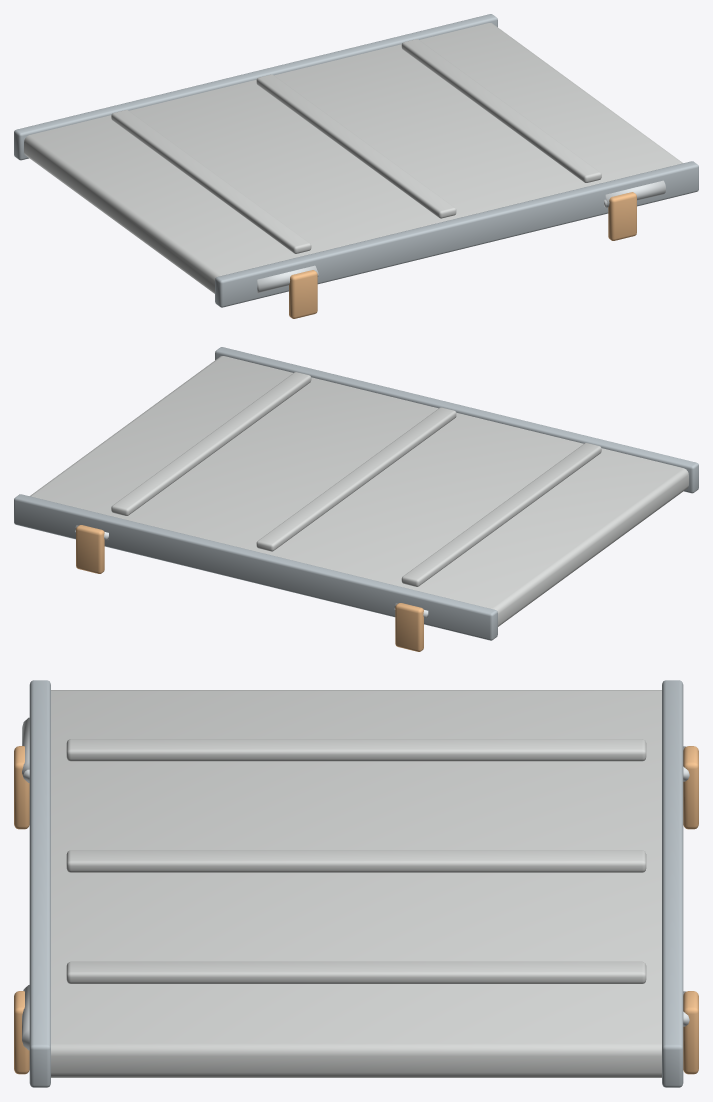
Rendered from pallet_lid.glb.
3 renders of one model, top to bottom at view 1: azimuth 30°, elevation 25°; view 2: azimuth 150°, elevation 25°; view 3: azimuth 270°, elevation 25°, orthographic. The views are drawn at different scales.
Visible parts, largest first — view 1: lid_panel_shell_white, lid_rim_frame_dark_alloy, lid_rim_frame_dark_alloy.001, lid_rib_shell_white, lid_rib_shell_white.001, lid_rib_shell_white.002, latch_handle_orange, latch_handle_orange.002, hinge_trim_steel, hinge_trim_steel.001; view 2: lid_panel_shell_white, lid_rim_frame_dark_alloy.001, lid_rim_frame_dark_alloy, lid_rib_shell_white, lid_rib_shell_white.001, lid_rib_shell_white.002, latch_handle_orange.003, latch_handle_orange.001; view 3: lid_panel_shell_white, lid_rib_shell_white.002, lid_rib_shell_white, lid_rib_shell_white.001, lid_rim_frame_dark_alloy, lid_rim_frame_dark_alloy.001, latch_handle_orange.001, latch_handle_orange.003, latch_handle_orange, latch_handle_orange.002.
Part boxes in pixels (x1=…): lid_panel_shell_white: x1=24, y1=23, x2=682, y2=293; lid_rim_frame_dark_alloy: x1=215, y1=161, x2=698, y2=307; lid_rim_frame_dark_alloy.001: x1=14, y1=14, x2=497, y2=160; lid_rib_shell_white: x1=111, y1=110, x2=311, y2=253; lid_rib_shell_white.001: x1=256, y1=74, x2=456, y2=218; lid_rib_shell_white.002: x1=401, y1=39, x2=601, y2=182; latch_handle_orange: x1=289, y1=270, x2=317, y2=318; latch_handle_orange.002: x1=608, y1=192, x2=636, y2=240; hinge_trim_steel: x1=257, y1=265, x2=317, y2=293; hinge_trim_steel.001: x1=605, y1=180, x2=665, y2=208; lid_panel_shell_white: x1=30, y1=356, x2=688, y2=626; lid_rim_frame_dark_alloy.001: x1=14, y1=494, x2=497, y2=640; lid_rim_frame_dark_alloy: x1=215, y1=347, x2=698, y2=493; lid_rib_shell_white: x1=401, y1=443, x2=601, y2=586; lid_rib_shell_white.001: x1=256, y1=407, x2=456, y2=551; lid_rib_shell_white.002: x1=111, y1=372, x2=311, y2=515; latch_handle_orange.003: x1=76, y1=525, x2=104, y2=573; latch_handle_orange.001: x1=395, y1=603, x2=423, y2=651; lid_panel_shell_white: x1=51, y1=690, x2=661, y2=1077; lid_rib_shell_white.002: x1=66, y1=961, x2=646, y2=983; lid_rib_shell_white: x1=66, y1=739, x2=646, y2=761; lid_rib_shell_white.001: x1=66, y1=850, x2=646, y2=872; lid_rim_frame_dark_alloy: x1=29, y1=680, x2=50, y2=1087; lid_rim_frame_dark_alloy.001: x1=662, y1=680, x2=683, y2=1087; latch_handle_orange.001: x1=683, y1=746, x2=698, y2=829; latch_handle_orange.003: x1=683, y1=991, x2=698, y2=1074; latch_handle_orange: x1=14, y1=746, x2=29, y2=829; latch_handle_orange.002: x1=14, y1=991, x2=29, y2=1074.
Size of the model in its own units: 1.65 by 0.1845 by 1.3.
